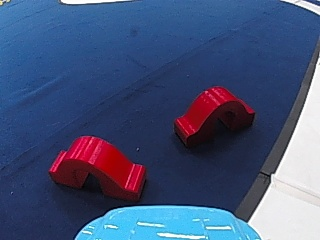bridge: (166, 81, 259, 147), (48, 132, 143, 195)
